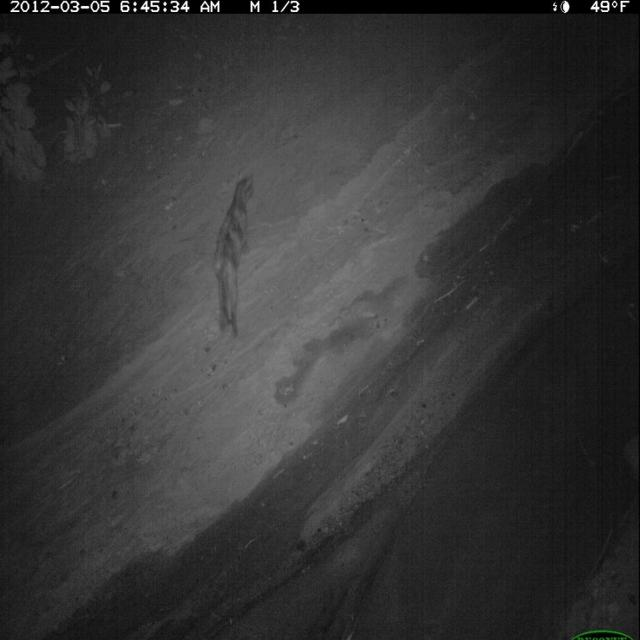cat: (209, 167, 258, 341)
